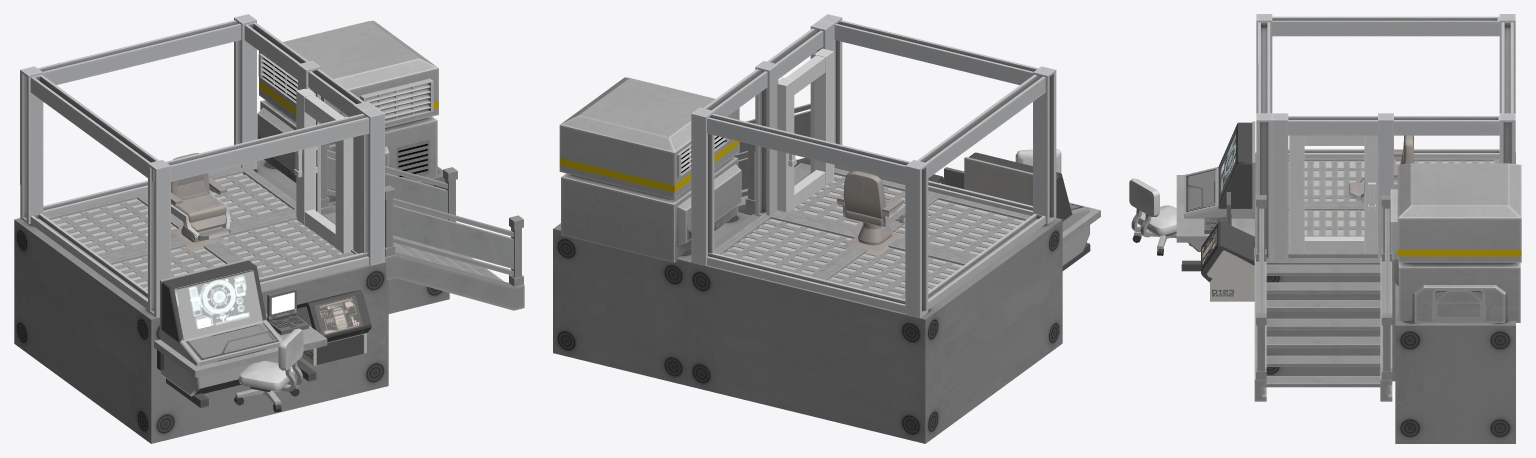
The model's file is Pfb_ObservationDeck_Temp__12.fbx.
The picture shows the model from 3 angles, left to right: view 1: azimuth 30°, elevation 25°; view 2: azimuth 150°, elevation 25°; view 3: azimuth 270°, elevation 25°; orthographic projection. The views are drawn at different scales.
Visible parts, largest first — view 1: Mat_SteelFrame_01, MAT_ScalableMesh_01, Mat_Ventilation_Soda, Mat_Stairs_Soda, Mat_Network_01_2, MAT_Soda_Instruments_Grey 6, Mat_TS_Metall 2, Mat_Tile_Color_01 7, MAT_Soda_Instruments_Grey 7, Mat_Tile_Color_07 2, Mat_Chair_01, Mat_Table_01 (+2 smaller); view 2: MAT_ScalableMesh_01, Mat_SteelFrame_01, Mat_Ventilation_Soda, Mat_Network_01_2, Mat_TS_Metall 2, Mat_Tile_Color_01 7, Mat_Tile_Color_07 2, Mat_CementMold_1, Mat_Stairs_Soda, MAT_Soda_Instruments_Grey 6, Mat_Table_01; view 3: MAT_ScalableMesh_01, Mat_Ventilation_Soda, Mat_SteelFrame_01, Mat_Stairs_Soda, Mat_TS_Metall 2, Mat_Network_01_2, MAT_Soda_Instruments_Grey 6, MAT_Soda_Instruments_Grey 7, Mat_Chair_01, Mat_Tile_Color_01 7, Mat_Table_01, Mat_Tile_Color_07 2 (+1 smaller).
Boxes of the visible parts, x1,y1,x2,y2 form: Mat_SteelFrame_01: (20, 14, 384, 317); MAT_ScalableMesh_01: (14, 159, 449, 443); Mat_Ventilation_Soda: (257, 20, 438, 202); Mat_Stairs_Soda: (321, 143, 524, 310); Mat_Network_01_2: (38, 167, 358, 299); MAT_Soda_Instruments_Grey 6: (161, 261, 282, 396); Mat_TS_Metall 2: (296, 88, 353, 253); Mat_Tile_Color_01 7: (51, 173, 342, 289); MAT_Soda_Instruments_Grey 7: (296, 290, 371, 365); Mat_Tile_Color_07 2: (171, 153, 229, 251); Mat_Chair_01: (234, 328, 303, 412); Mat_Table_01: (154, 313, 327, 407); MAT_ScalableMesh_01: (553, 172, 1062, 443); Mat_SteelFrame_01: (691, 14, 1056, 317); Mat_Ventilation_Soda: (559, 77, 741, 262); Mat_Network_01_2: (714, 168, 1037, 299); Mat_TS_Metall 2: (777, 48, 833, 212); Mat_Tile_Color_01 7: (725, 174, 1024, 295); Mat_Tile_Color_07 2: (837, 171, 905, 255); Mat_CementMold_1: (964, 157, 1032, 205); Mat_Stairs_Soda: (733, 103, 810, 215); MAT_Soda_Instruments_Grey 6: (969, 152, 1089, 266); Mat_Table_01: (1062, 203, 1100, 270); MAT_ScalableMesh_01: (1255, 152, 1515, 443); Mat_Ventilation_Soda: (1390, 163, 1521, 322); Mat_SteelFrame_01: (1256, 14, 1515, 261); Mat_Stairs_Soda: (1254, 195, 1392, 401); Mat_TS_Metall 2: (1289, 135, 1377, 252); Mat_Network_01_2: (1288, 158, 1499, 257); MAT_Soda_Instruments_Grey 6: (1184, 122, 1252, 251); MAT_Soda_Instruments_Grey 7: (1201, 221, 1254, 301); Mat_Chair_01: (1129, 178, 1191, 255); Mat_Tile_Color_01 7: (1304, 161, 1494, 235); Mat_Table_01: (1176, 175, 1254, 271); Mat_Tile_Color_07 2: (1349, 135, 1413, 195).
Size of the model in its own units: 6.29 by 4.39 by 6.01.
Materials: 16 (16 with a texture image).
